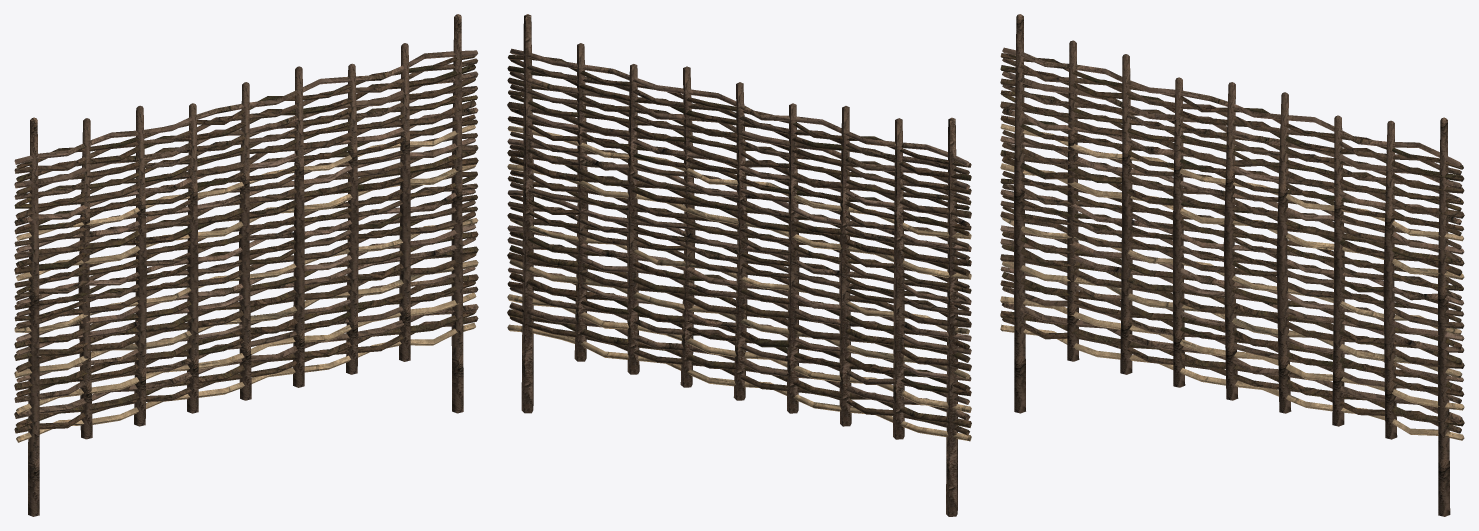
File: kit_tw_hurdle.glb
The picture shows the model from 3 angles, left to right: view 1: azimuth 30°, elevation 25°; view 2: azimuth 150°, elevation 25°; view 3: azimuth 330°, elevation 25°; orthographic projection.
Parts seen in each view (by area): view 1: kit_tw_hurdle; view 2: kit_tw_hurdle; view 3: kit_tw_hurdle.
Boxes of the visible parts, x1,y1,x2,y2 form: kit_tw_hurdle: (14,14,478,516); kit_tw_hurdle: (507,14,971,516); kit_tw_hurdle: (1000,14,1464,516).
Bounding box in the file's own units: 1.87 × 1.54 × 0.0879.
1 material, 1 textured.
